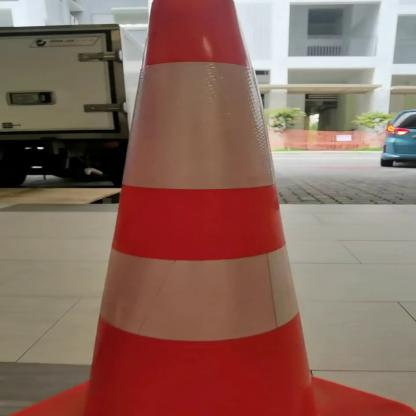cone: (8, 0, 416, 416)
